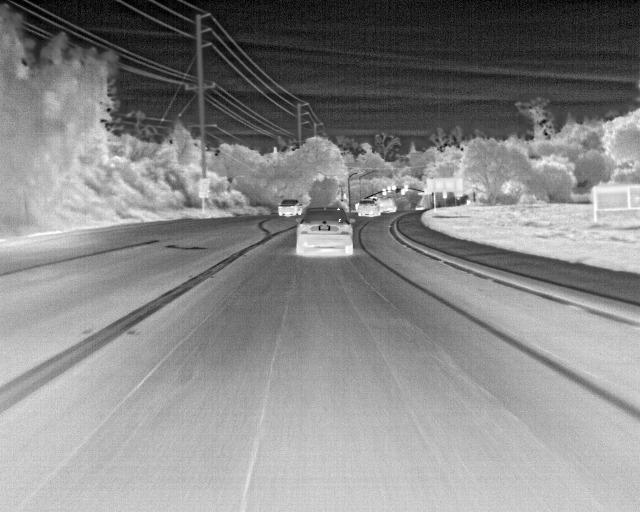car: (296, 205, 355, 255), (357, 199, 381, 217), (278, 199, 303, 216), (378, 197, 396, 213), (415, 205, 425, 210)
light: (404, 185, 408, 192), (401, 189, 405, 195), (383, 189, 386, 195), (388, 187, 391, 192)
sign: (199, 178, 209, 192), (199, 192, 208, 198), (418, 193, 428, 196), (443, 192, 447, 198), (392, 186, 396, 190)
